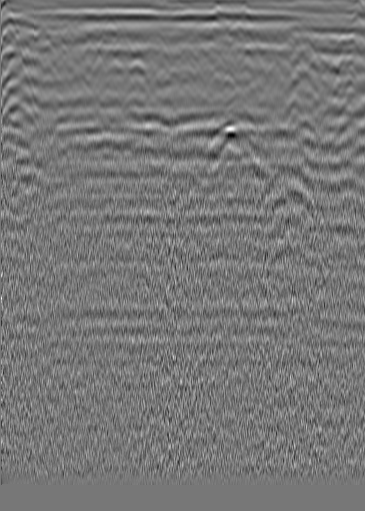가스: (206, 121, 254, 164)
상수: (330, 32, 361, 62)
오수: (27, 25, 59, 50)
우수: (146, 27, 166, 47)
